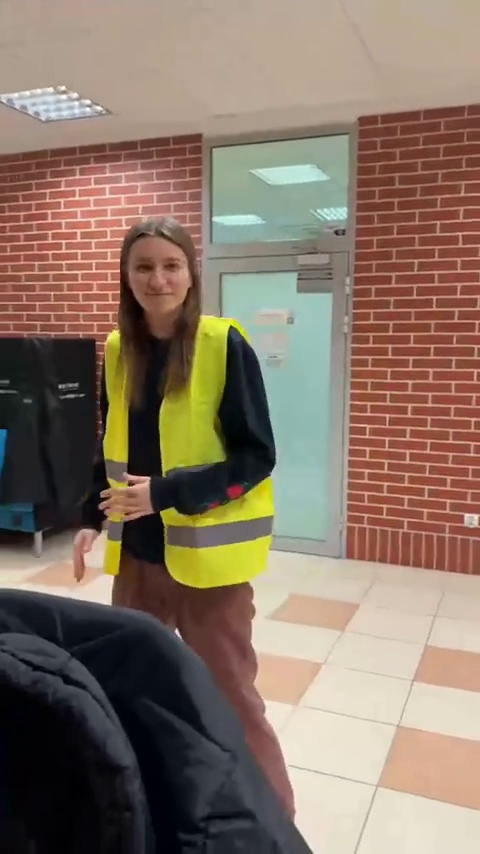vest: (68, 214, 284, 656)
